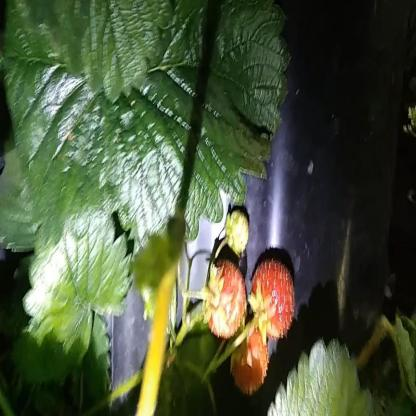ripe: (249, 257, 296, 339), (204, 260, 246, 339), (233, 335, 268, 395)
unripe: (224, 210, 254, 253)
